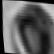correct: (8, 0, 54, 54)
